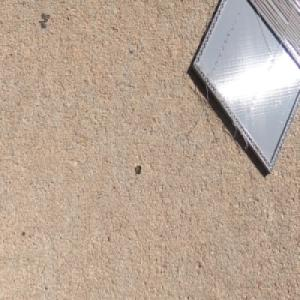PlasticPart: (191, 0, 300, 177)
